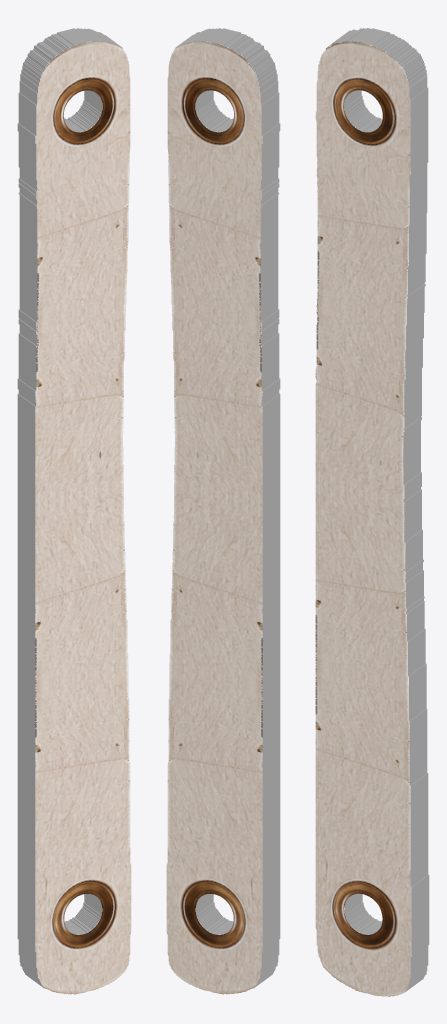
File: UpperLeg.glb
3 views of the same model, side by side, from view 1: azimuth 30°, elevation 25°; view 2: azimuth 150°, elevation 25°; view 3: azimuth 330°, elevation 25° (orthographic).
Visible parts, largest first — view 1: PaperVolume; view 2: PaperVolume; view 3: PaperVolume.
Part boxes in pixels (x1,y1,x2,y2): PaperVolume: (17,28,131,994); PaperVolume: (166,28,280,994); PaperVolume: (315,28,429,996).
Bounding box in the file's own units: 0.269 × 2.39 × 0.08.
Materials: 3 (2 with a texture image).
